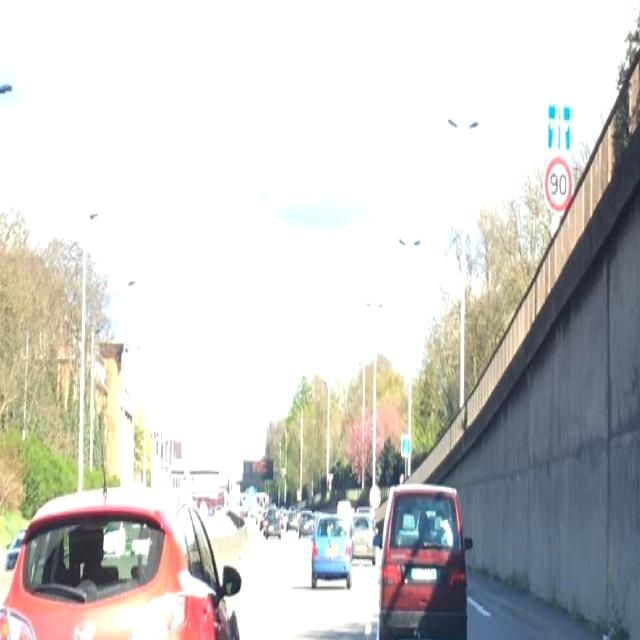speed_90: (545, 156, 574, 208)
